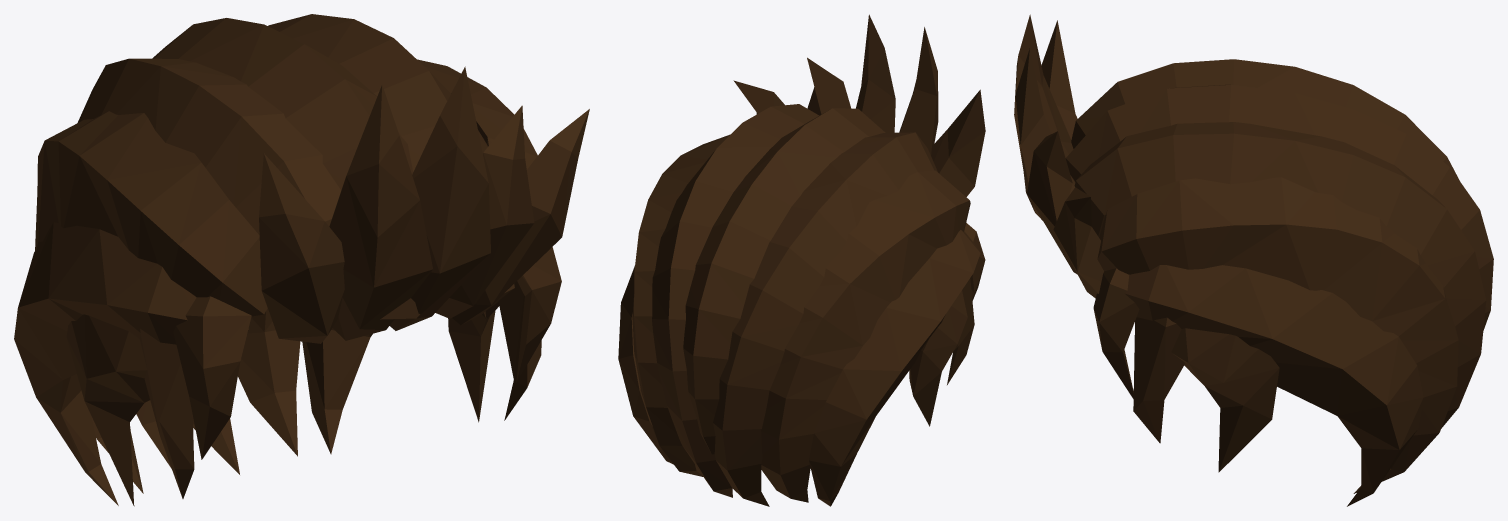
Rendered from hair-spiky.high.6d11c14b.glb.
The picture shows the model from 3 angles, left to right: view 1: azimuth 30°, elevation 25°; view 2: azimuth 150°, elevation 25°; view 3: azimuth 270°, elevation 25°; orthographic projection. The views are drawn at different scales.
Parts seen in each view (by area): view 1: hair-spiky; view 2: hair-spiky; view 3: hair-spiky.
Boxes of the visible parts, x1,y1,x2,y2 form: hair-spiky: (14, 14, 589, 506); hair-spiky: (618, 14, 985, 506); hair-spiky: (1014, 14, 1493, 506).
Size of the model in its own units: 0.2255 by 0.2723 by 0.267.
